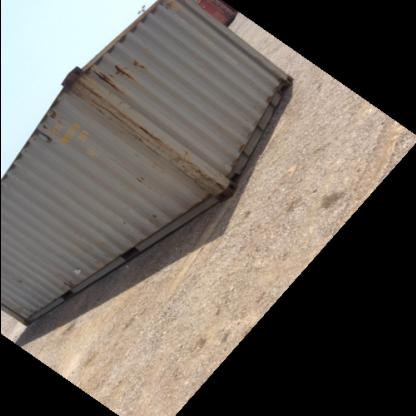Damage: (90, 100, 160, 146), (164, 152, 224, 192), (90, 62, 142, 92), (54, 265, 80, 292), (126, 168, 150, 186), (136, 212, 160, 223), (8, 275, 24, 284)
